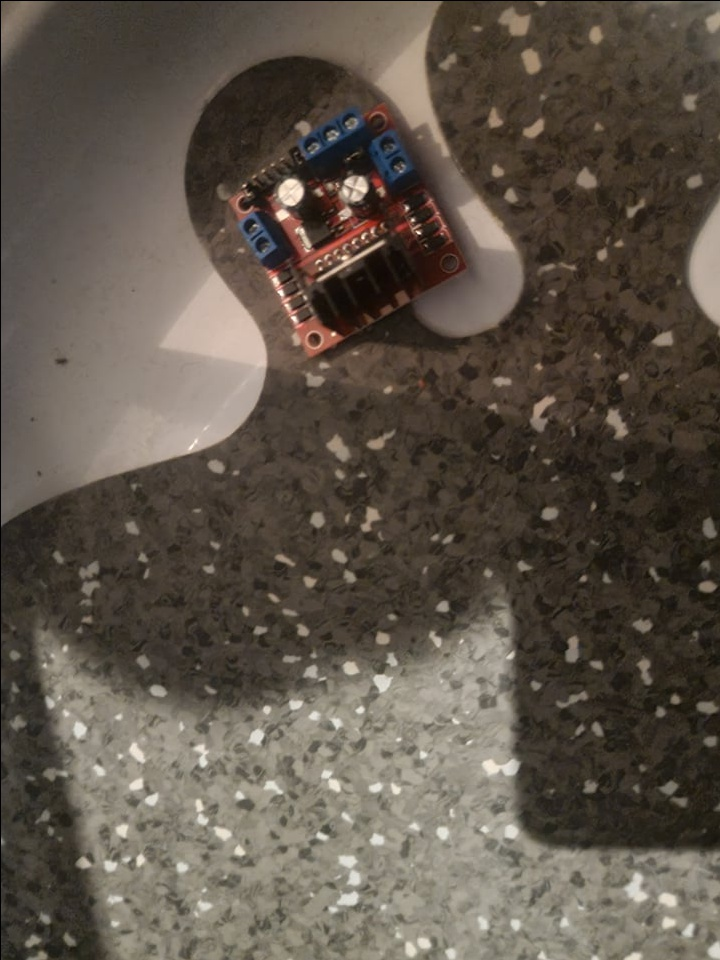MOTOR: (229, 96, 468, 358)
